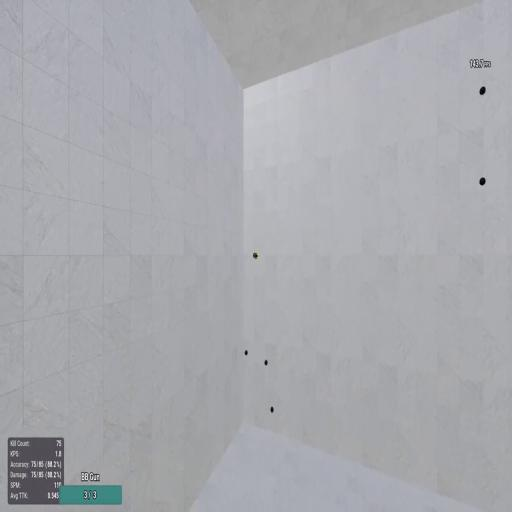Crosshair: (254, 251, 258, 260)
Target: (479, 84, 486, 98), (480, 176, 486, 187), (270, 405, 274, 414), (264, 359, 268, 366), (244, 349, 248, 356), (253, 252, 256, 258)
